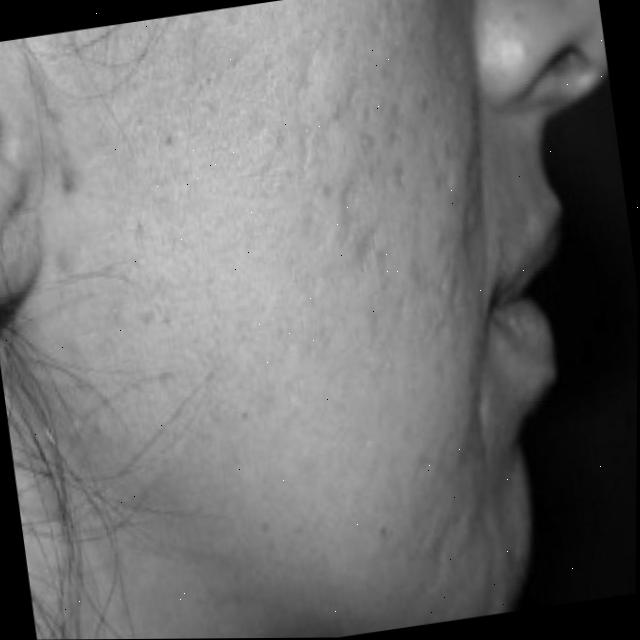Acne: (93, 15, 489, 389)
